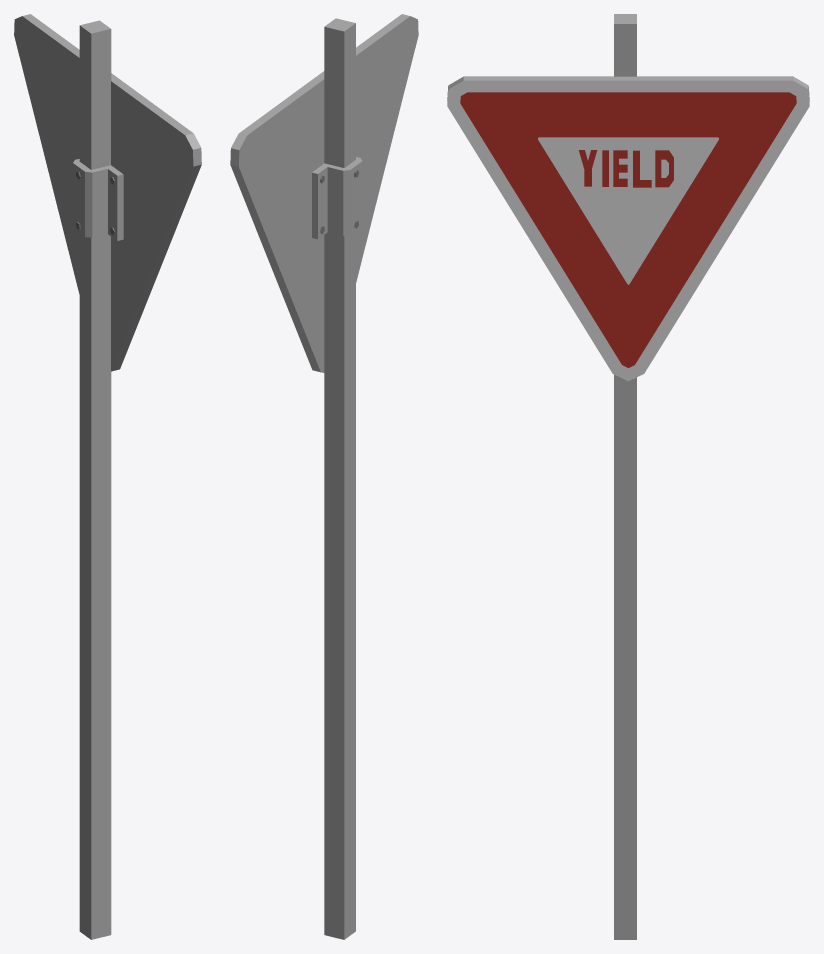
File: SM_road_sign_3.gltf
3 renders of one model, left to right at view 1: azimuth 30°, elevation 25°; view 2: azimuth 150°, elevation 25°; view 3: azimuth 270°, elevation 25°, orthographic.
Parts seen in each view (by area): view 1: SM_road_sign_3; view 2: SM_road_sign_3; view 3: SM_road_sign_3.
Part boxes in pixels (x1,y1,x2,y2): SM_road_sign_3: (14,14,201,939); SM_road_sign_3: (230,14,418,939); SM_road_sign_3: (447,14,809,939).
Bounding box in the file's own units: 0.0872 × 2.05 × 0.7342.
1 material, 1 textured.
